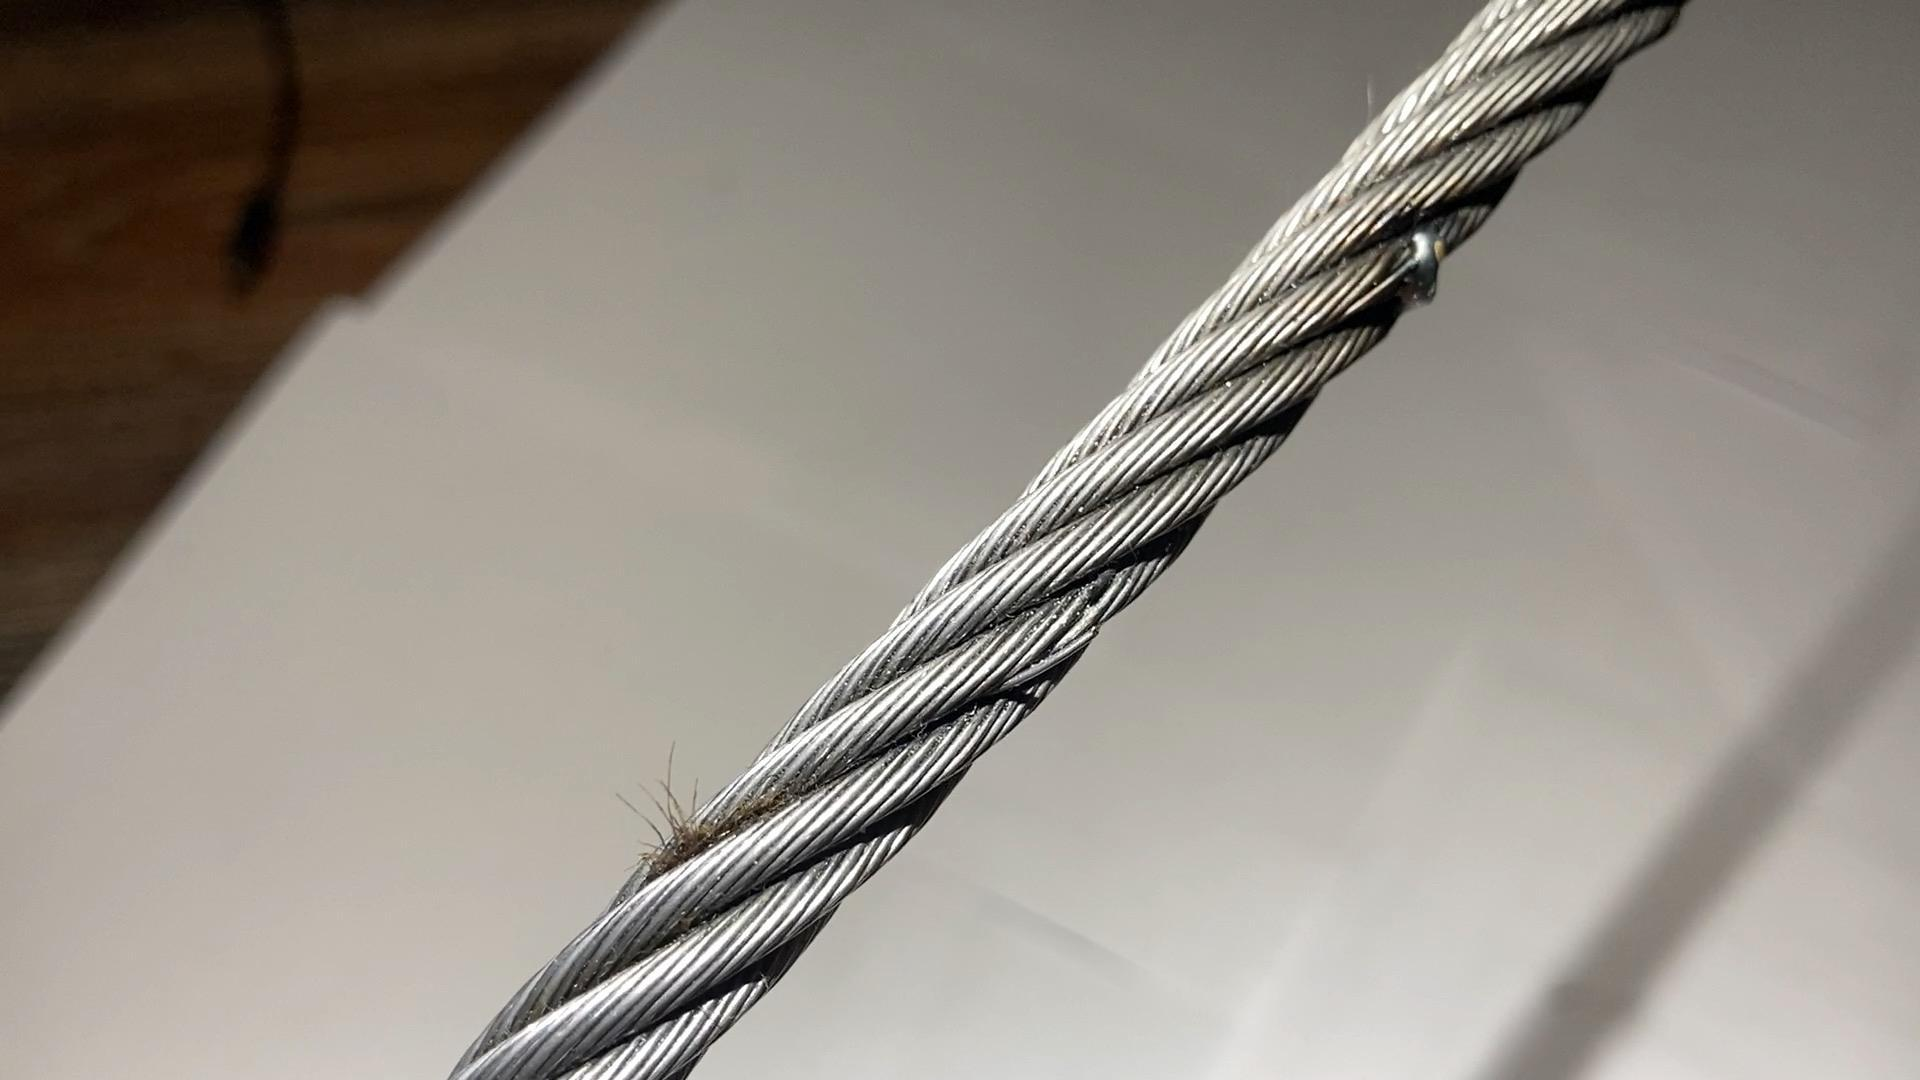break: (1011, 611, 1100, 687)
thunderbolt: (1385, 203, 1464, 303)
